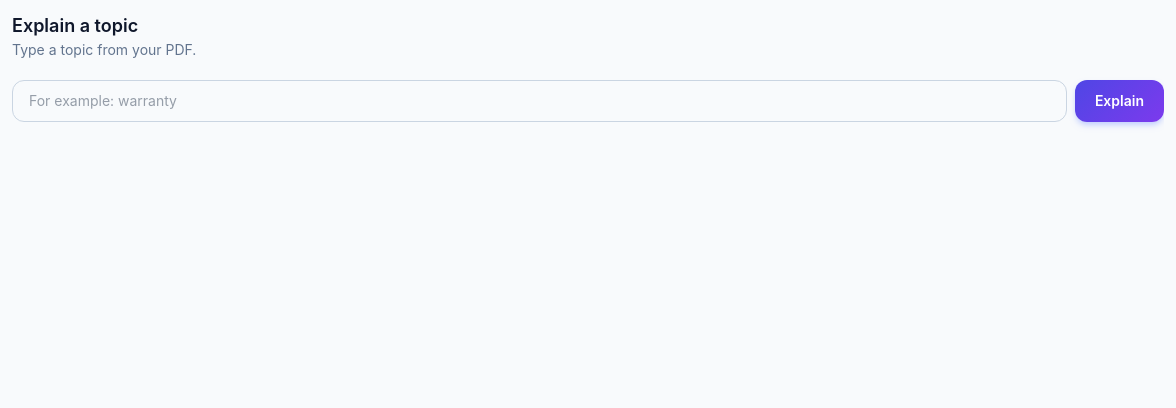
Scenario: ExplainPanel (simplified) › shows the explanation, example and citation when found
This screenshot has width=1176, height=408.
Type "warranty" into the field named "Topic to explain" at [539, 101], box [12,80,1067,122]
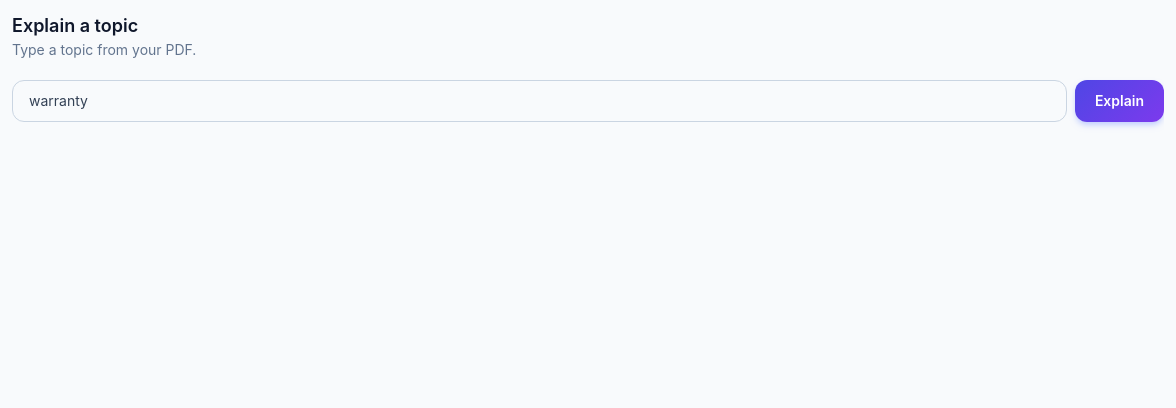
Click the button "Explain" at [1119, 101], box [1075,80,1164,122]
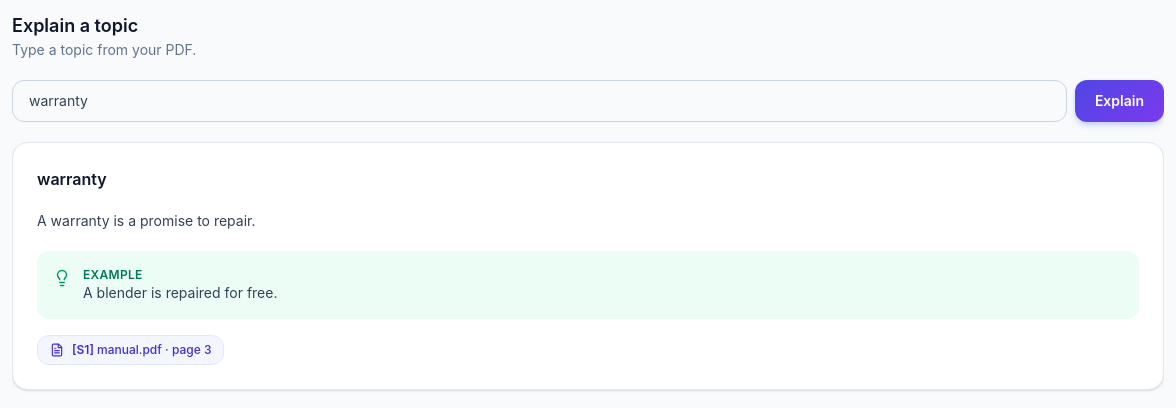
expect the text "A warranty is a promise to repair." is shown: met, box [37,212,256,229]
expect the text "A blender is repaired for free." is shown: met, box [83,283,278,303]
expect the text "[S1] manual.pdf · page 3" is shown: met, box [72,342,212,358]
